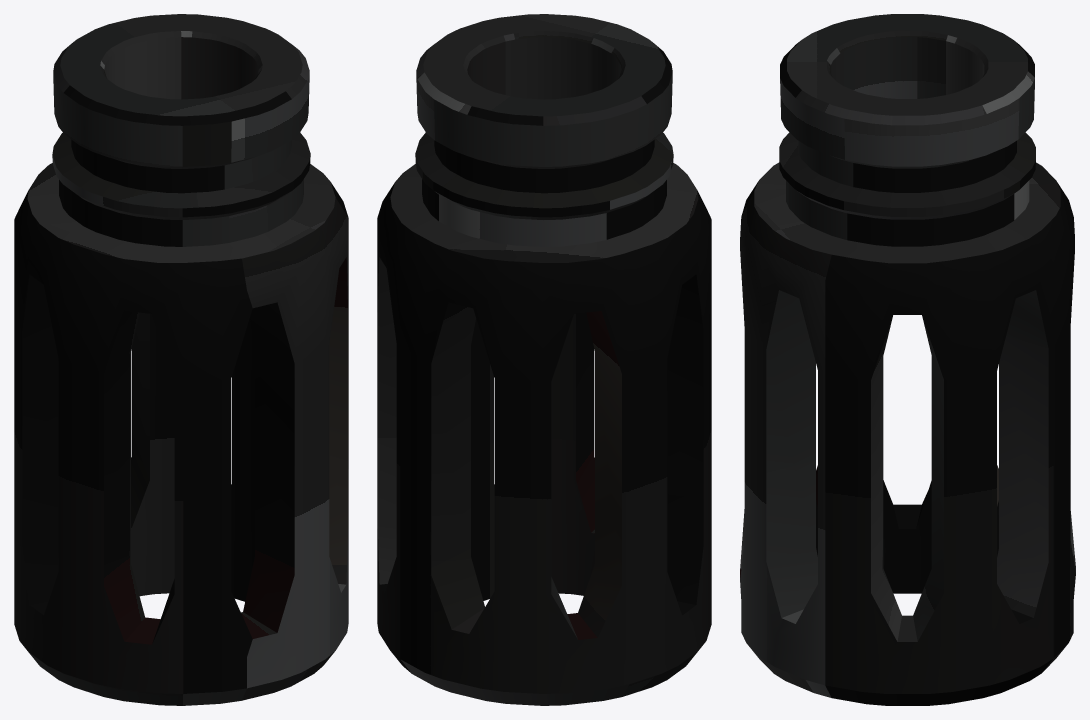
Rendered from FlashHider_556.fbx.
The picture shows the model from 3 angles, left to right: view 1: azimuth 30°, elevation 25°; view 2: azimuth 150°, elevation 25°; view 3: azimuth 270°, elevation 25°; orthographic projection.
Parts seen in each view (by area): view 1: asset_FlashHider_556.001; view 2: asset_FlashHider_556.001; view 3: asset_FlashHider_556.001.
Boxes of the visible parts, x1,y1,x2,y2 form: asset_FlashHider_556.001: (14, 14, 348, 705); asset_FlashHider_556.001: (377, 14, 711, 705); asset_FlashHider_556.001: (740, 14, 1075, 705).
Bounding box in the file's own units: 0.0174 × 0.033 × 0.0174.
